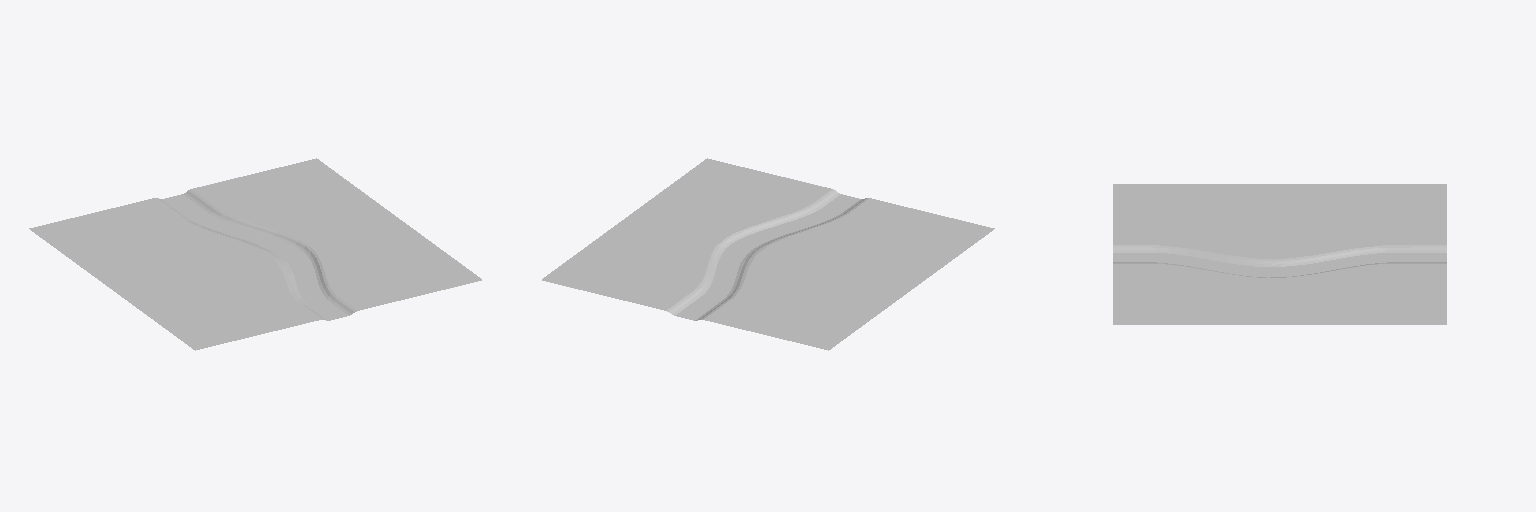
The model's file is Terrain_Part_Plane_9.obj.
3 renders of one model, left to right at view 1: azimuth 30°, elevation 25°; view 2: azimuth 150°, elevation 25°; view 3: azimuth 270°, elevation 25°, orthographic.
Visible parts, largest first — view 1: Terrain_Part_Plane_9_Plane.028; view 2: Terrain_Part_Plane_9_Plane.028; view 3: Terrain_Part_Plane_9_Plane.028.
Boxes of the visible parts, box(x1,y1,x2,y2) form: Terrain_Part_Plane_9_Plane.028: box(29, 158, 481, 350); Terrain_Part_Plane_9_Plane.028: box(542, 158, 994, 350); Terrain_Part_Plane_9_Plane.028: box(1113, 184, 1446, 324).
Bounding box in the file's own units: 20 × 0.2 × 20.